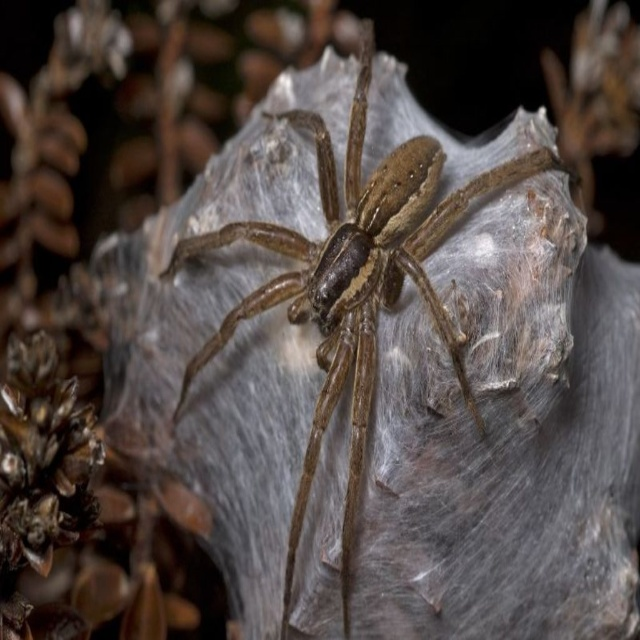Spider: (157, 19, 585, 640)
